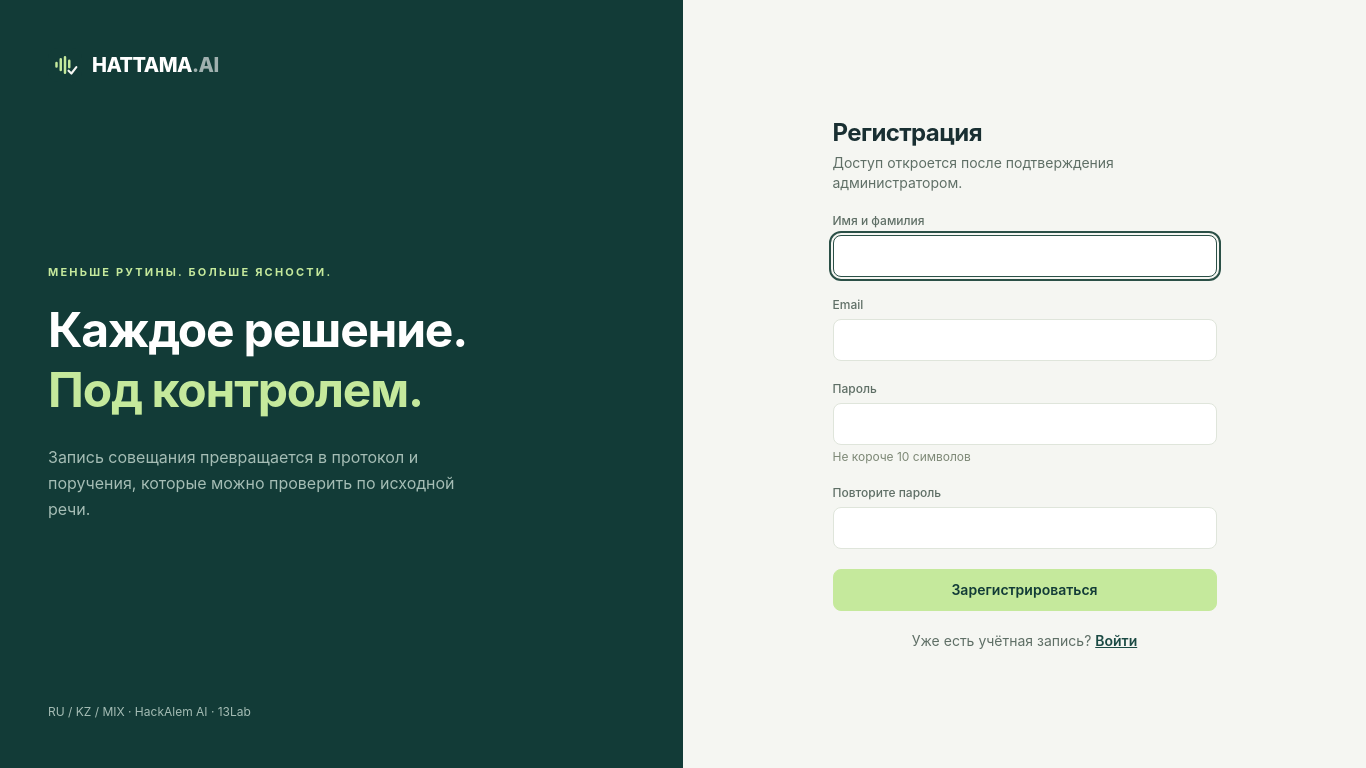
Test: RegisterPage › explains that the request waits for an administrator
Type "Айжан Серикова" into the field labelled "Имя и фамилия" at (1024, 256), box [832,235,1216,277]
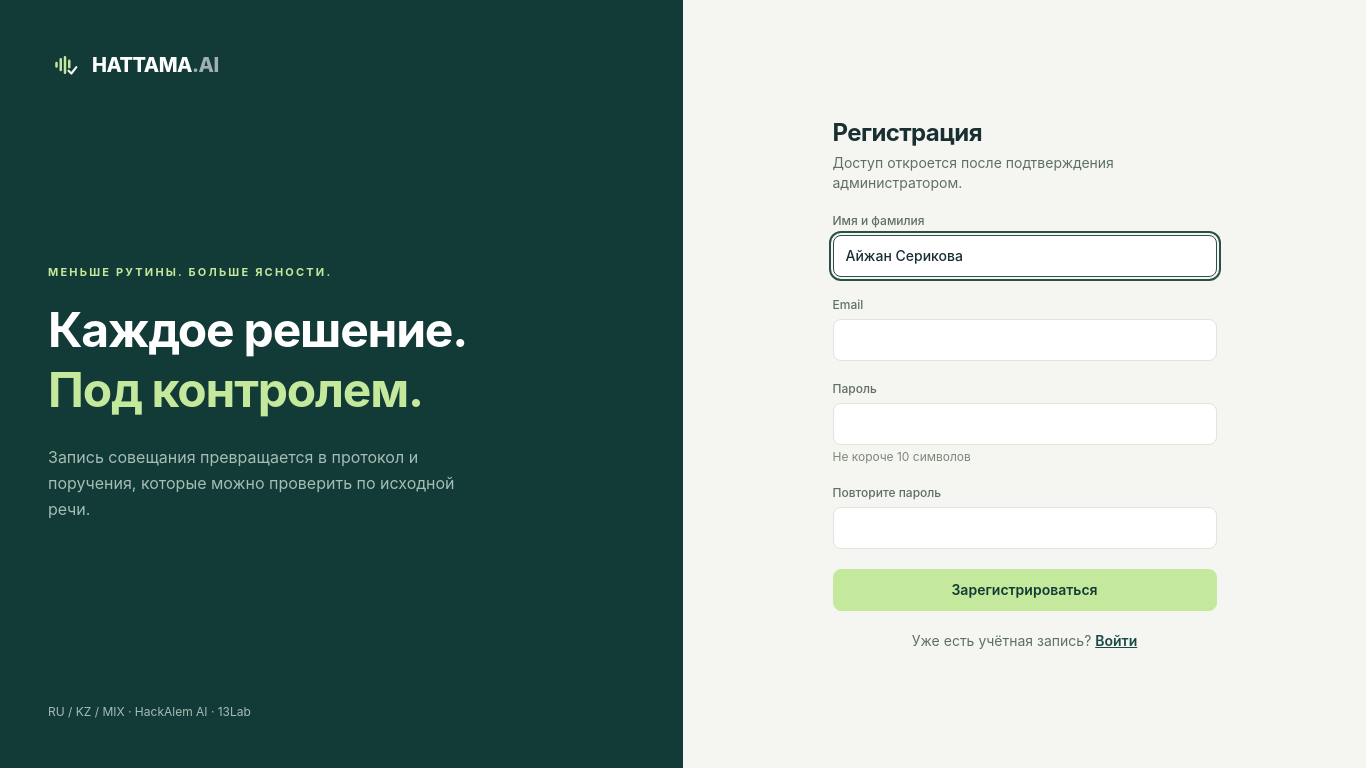
Type "aizhan@example.kz" into the field labelled "Email" at (1024, 340), box [832,319,1216,361]
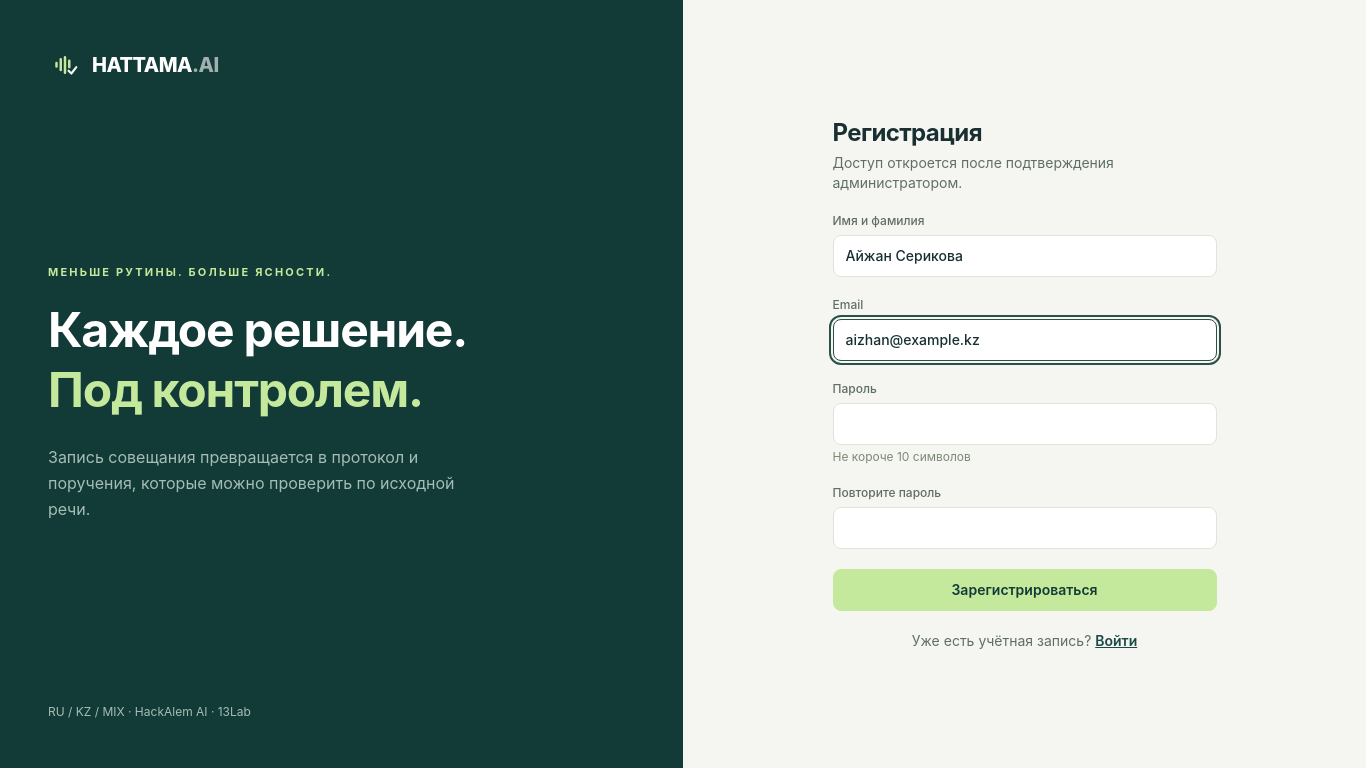
Type "long-enough-password" into the password field labelled "Пароль" at (1024, 424), box [832,403,1216,445]
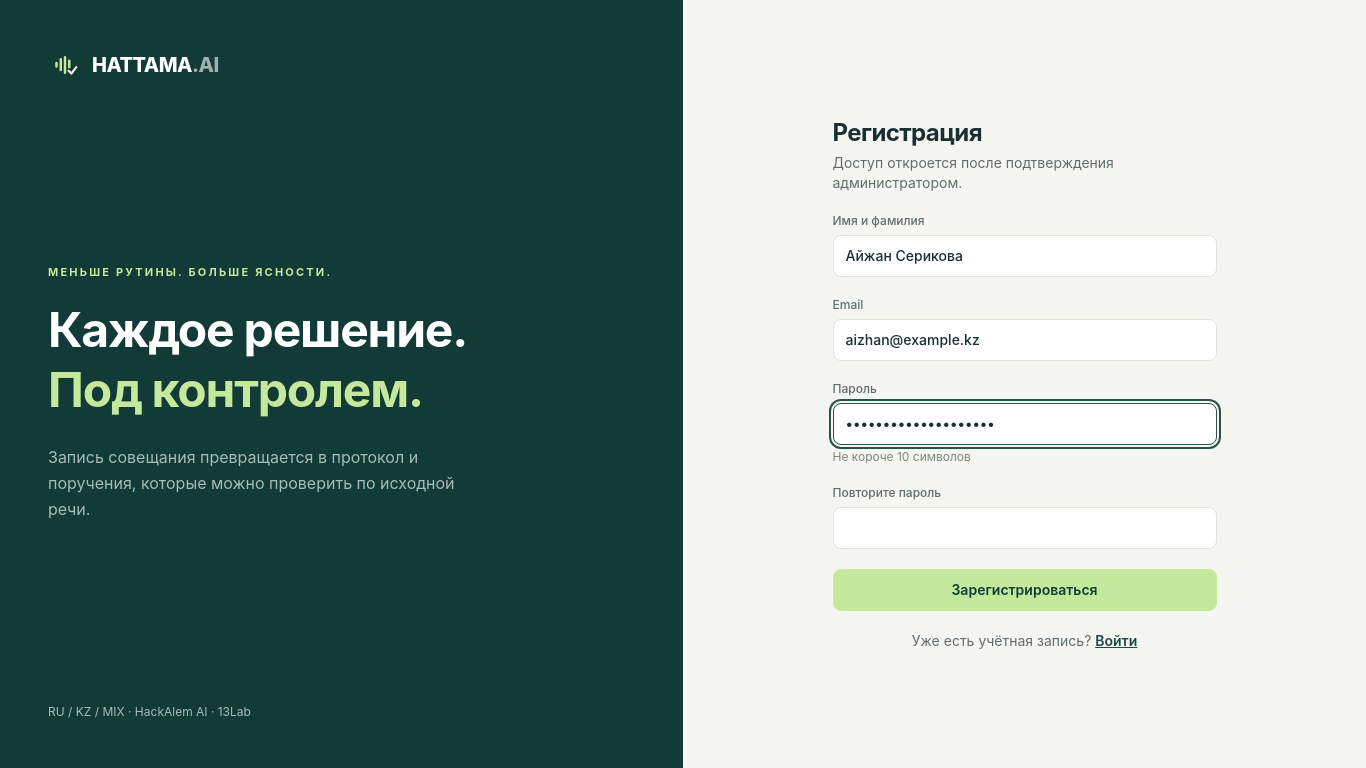
Type "long-enough-password" into the password field labelled "Повторите пароль" at (1024, 528), box [832,507,1216,549]
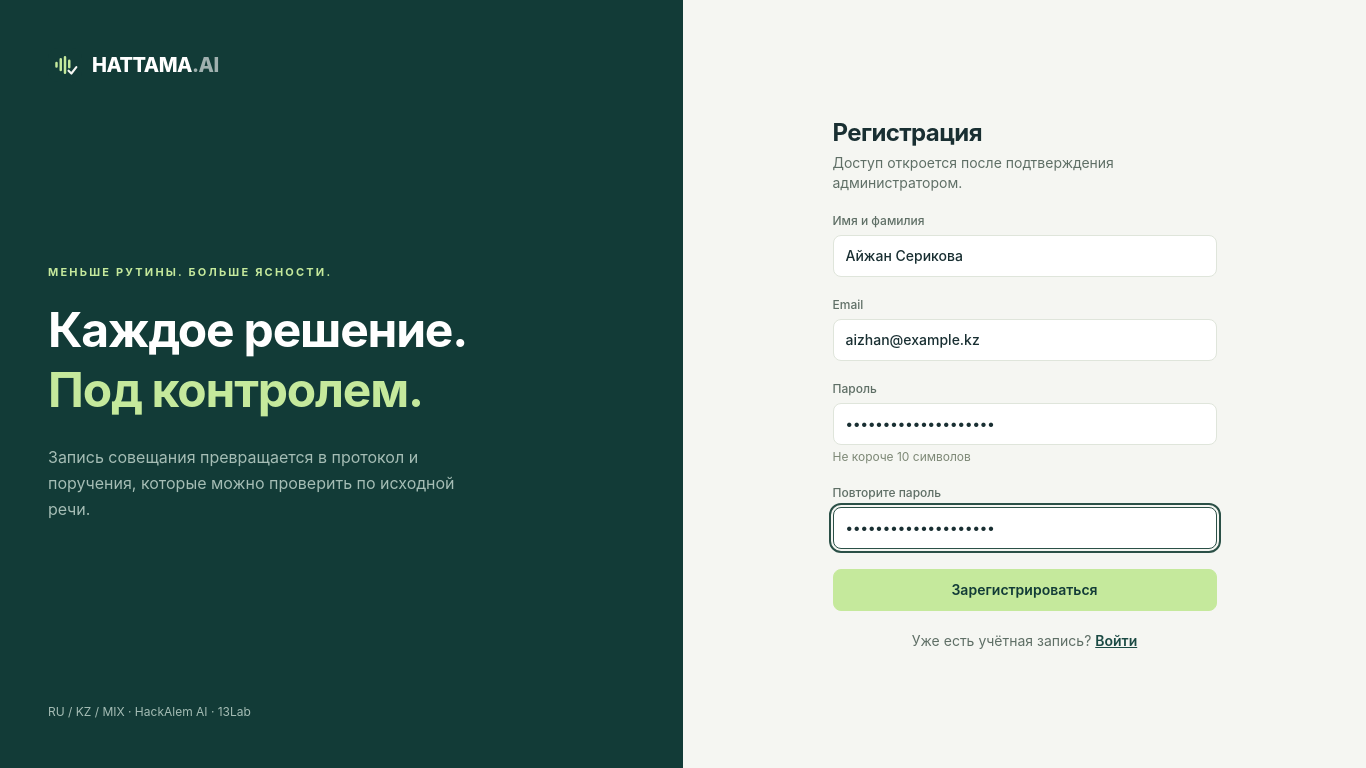
Click the button "Зарегистрироваться" at (1024, 590), box [832,569,1216,611]
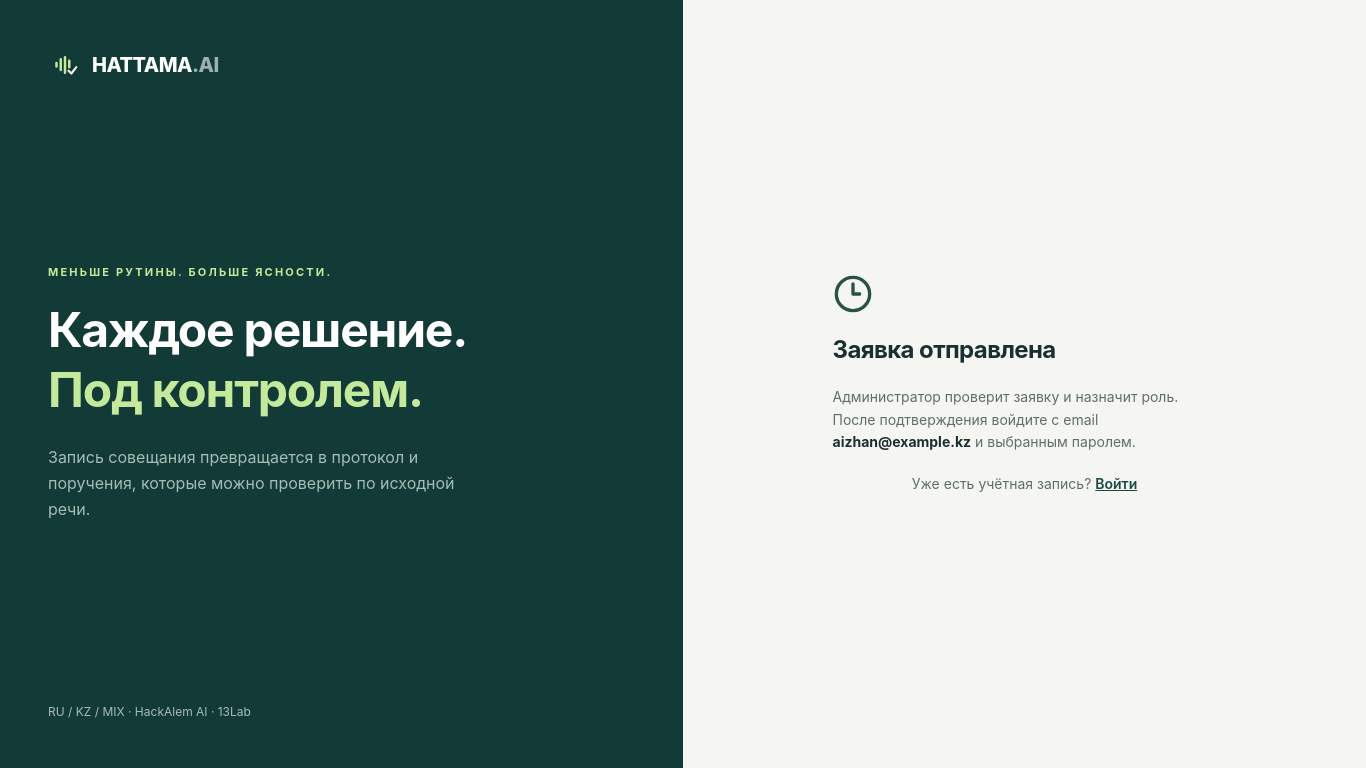
expect the heading "Заявка отправлена" is shown: met, box [832,335,1056,364]
